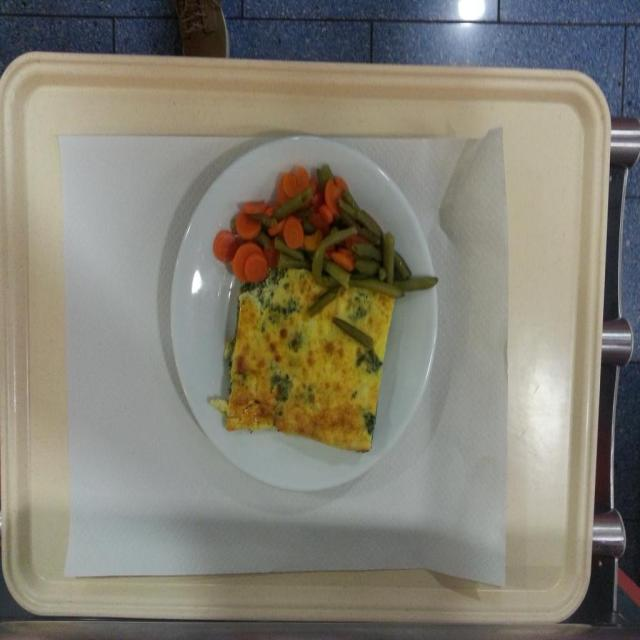plate: (168, 132, 438, 490)
